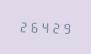four: (40, 19, 50, 34)
nine: (62, 20, 72, 34)
six: (29, 19, 39, 33)
two: (18, 19, 28, 33), (51, 20, 61, 34)
